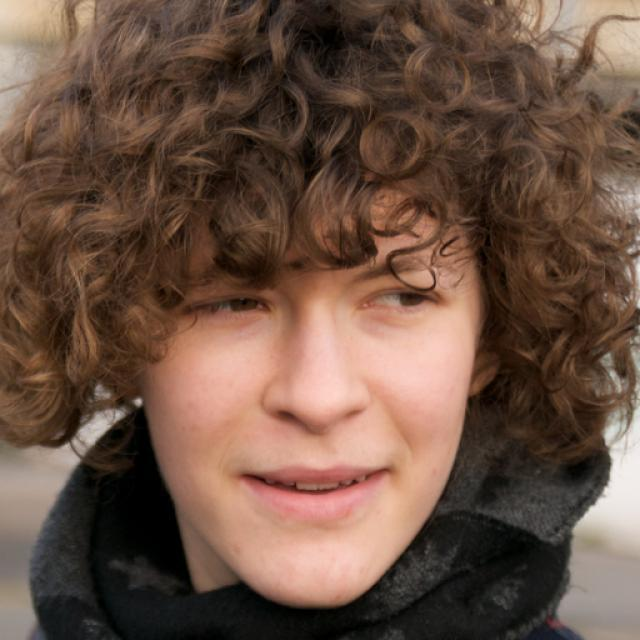content: (135, 157, 478, 598)
